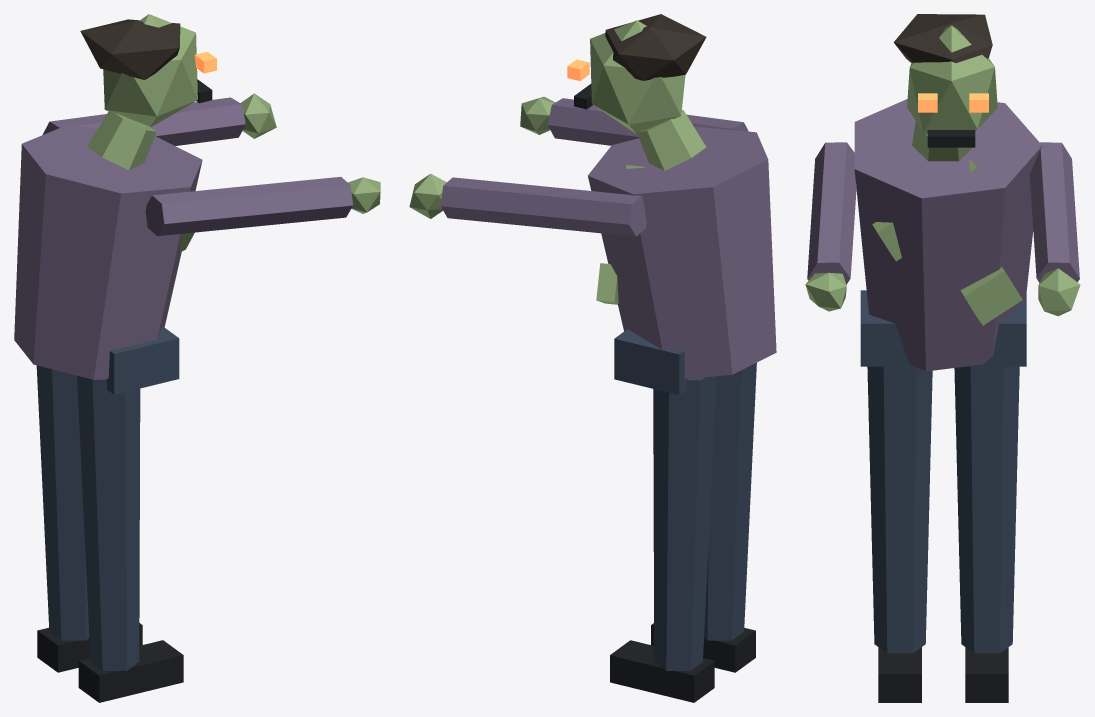
Rendered from zombie.glb.
3 views of the same model, side by side, from view 1: azimuth 30°, elevation 25°; view 2: azimuth 150°, elevation 25°; view 3: azimuth 270°, elevation 25° (orthographic). The views are drawn at different scales.
Visible parts, largest first — view 1: Kropp, BenH, BenV, ArmH, ArmV; view 2: Kropp, BenV, BenH, ArmV, ArmH; view 3: Kropp, BenV, BenH, ArmV, ArmH.
Boxes of the visible parts, x1,y1,x2,y2 form: Kropp: [14, 14, 216, 394]; BenH: [77, 375, 183, 702]; BenV: [36, 365, 142, 672]; ArmH: [145, 176, 380, 236]; ArmV: [42, 93, 276, 145]; Kropp: [567, 14, 776, 394]; BenV: [610, 376, 716, 702]; BenH: [651, 362, 756, 672]; ArmV: [409, 173, 646, 236]; ArmH: [520, 96, 748, 145]; Kropp: [854, 14, 1042, 371]; BenV: [954, 366, 1019, 702]; BenH: [867, 366, 932, 702]; ArmV: [1029, 142, 1080, 316]; ArmH: [805, 142, 856, 311].
Bounding box in the file's own units: 0.9274 × 1.89 × 0.6961.
